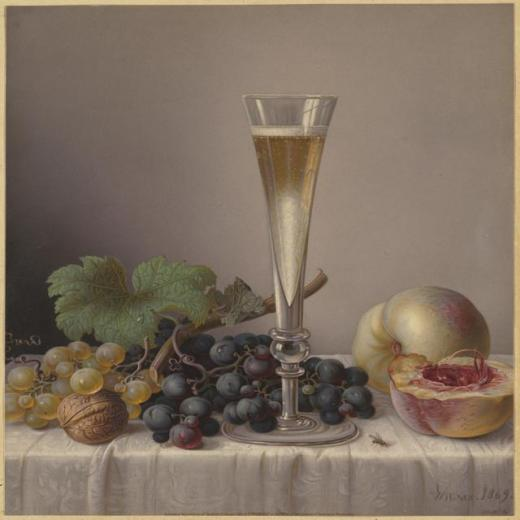Orange: (6, 319, 373, 447)
